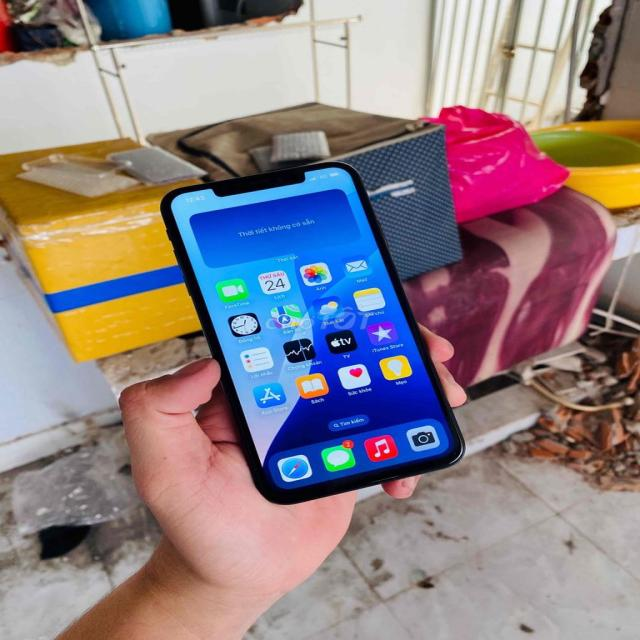gen_x_xs: (156, 162, 467, 506)
